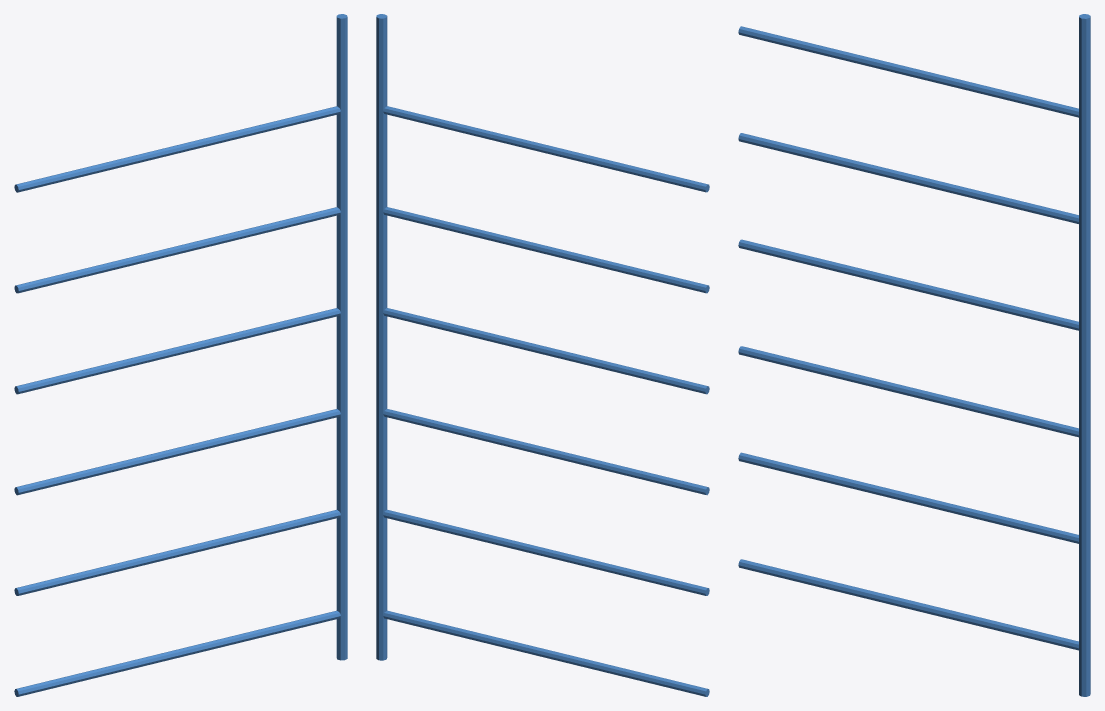
The model's file is Sewer.gltf.
The picture shows the model from 3 angles, left to right: view 1: azimuth 30°, elevation 25°; view 2: azimuth 150°, elevation 25°; view 3: azimuth 330°, elevation 25°; orthographic projection. The views are drawn at different scales.
Parts seen in each view (by area): view 1: Sewer; view 2: Sewer; view 3: Sewer.
Part boxes in pixels (box(x1,y1,x2,y2)): Sewer: box(14, 14, 347, 696); Sewer: box(376, 14, 709, 696); Sewer: box(738, 14, 1090, 696).
Bounding box in the file's own units: 0.0728 × 0.1351 × 0.00218.
